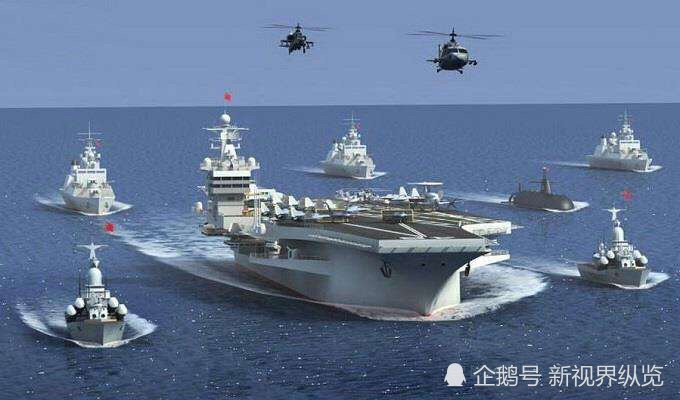airplane: (411, 21, 497, 76), (254, 19, 339, 59)
warship: (220, 148, 525, 326), (196, 85, 286, 234), (67, 241, 132, 346), (56, 125, 125, 218), (582, 224, 656, 286), (588, 113, 661, 175), (321, 114, 382, 181)
